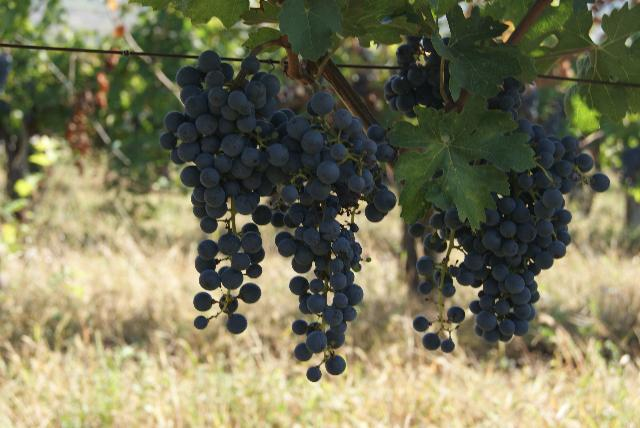grapes: (268, 91, 396, 375), (160, 50, 279, 334), (445, 125, 594, 342)
